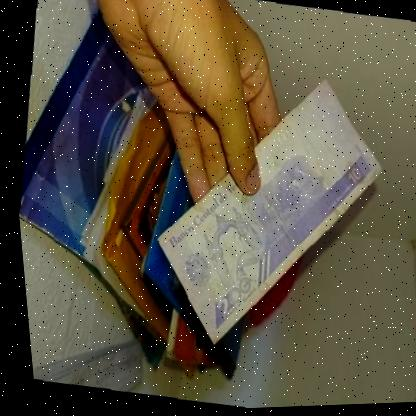ten-back-vef: (124, 55, 406, 372)
